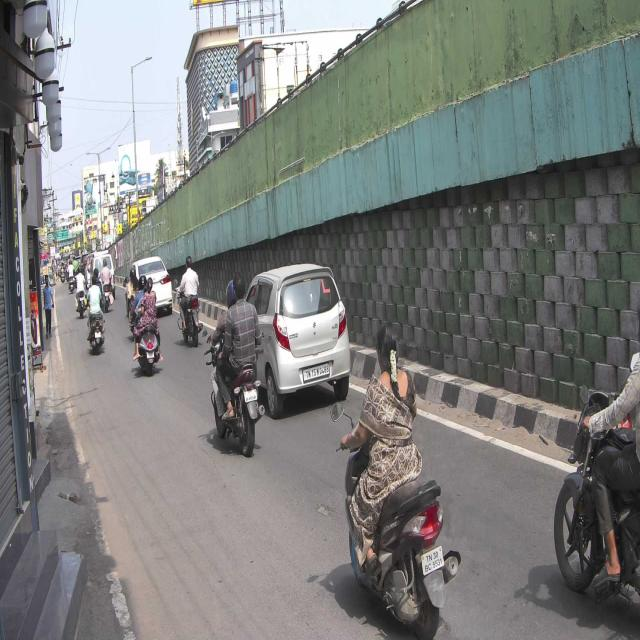double_rider: (208, 274, 264, 455)
single_rider: (331, 322, 463, 640)
